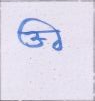o_matra: (47, 20, 64, 52)
